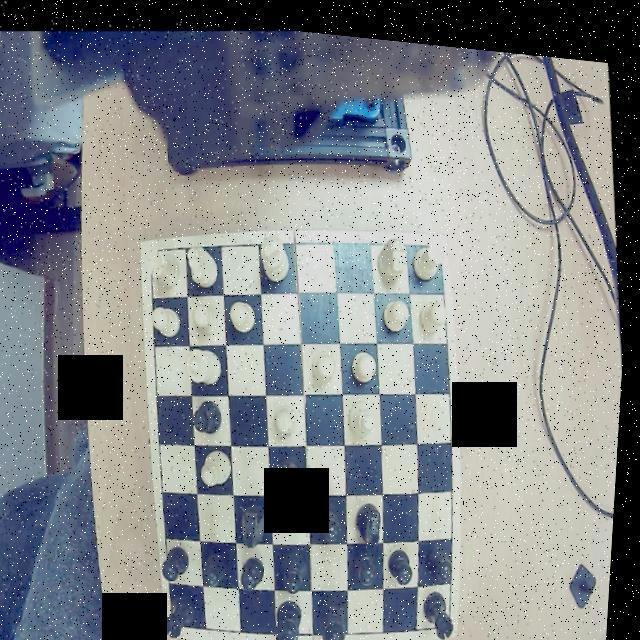chess-table-corners: (426, 227, 451, 254), (146, 235, 168, 262), (442, 604, 463, 630), (172, 604, 190, 634)
